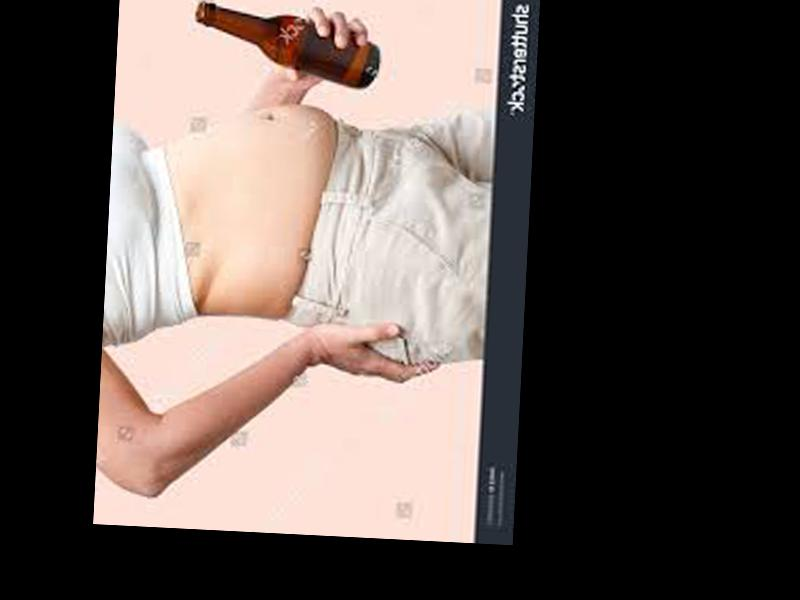Beer: (194, 1, 384, 93)
